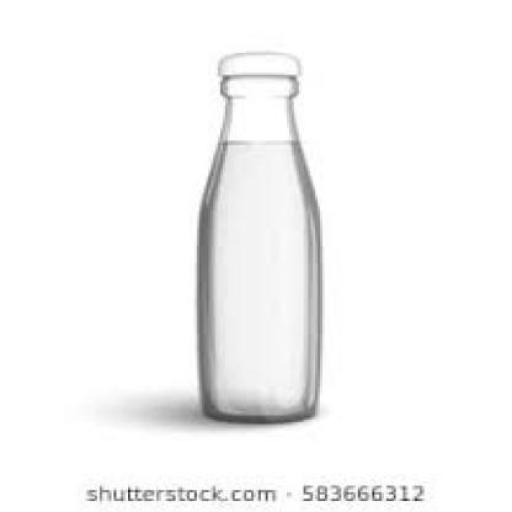glass: (197, 72, 317, 420)
metal: (218, 48, 294, 70)
